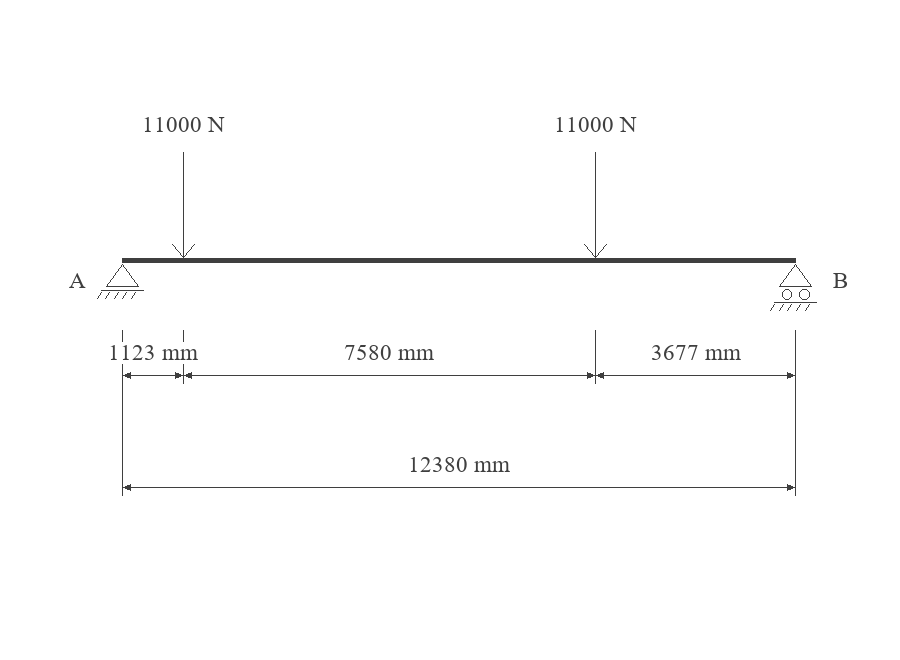pin_support: (97, 264, 144, 299)
point_load: (172, 152, 195, 258), (584, 152, 607, 258)
roller_support: (770, 264, 817, 311)
